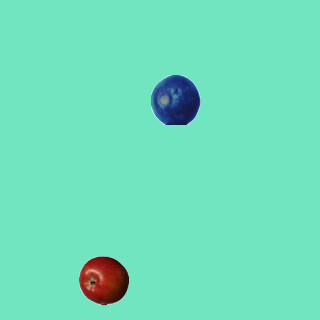Apple Braeburn: (78, 255, 128, 305)
Huckleberry: (150, 74, 200, 124)
